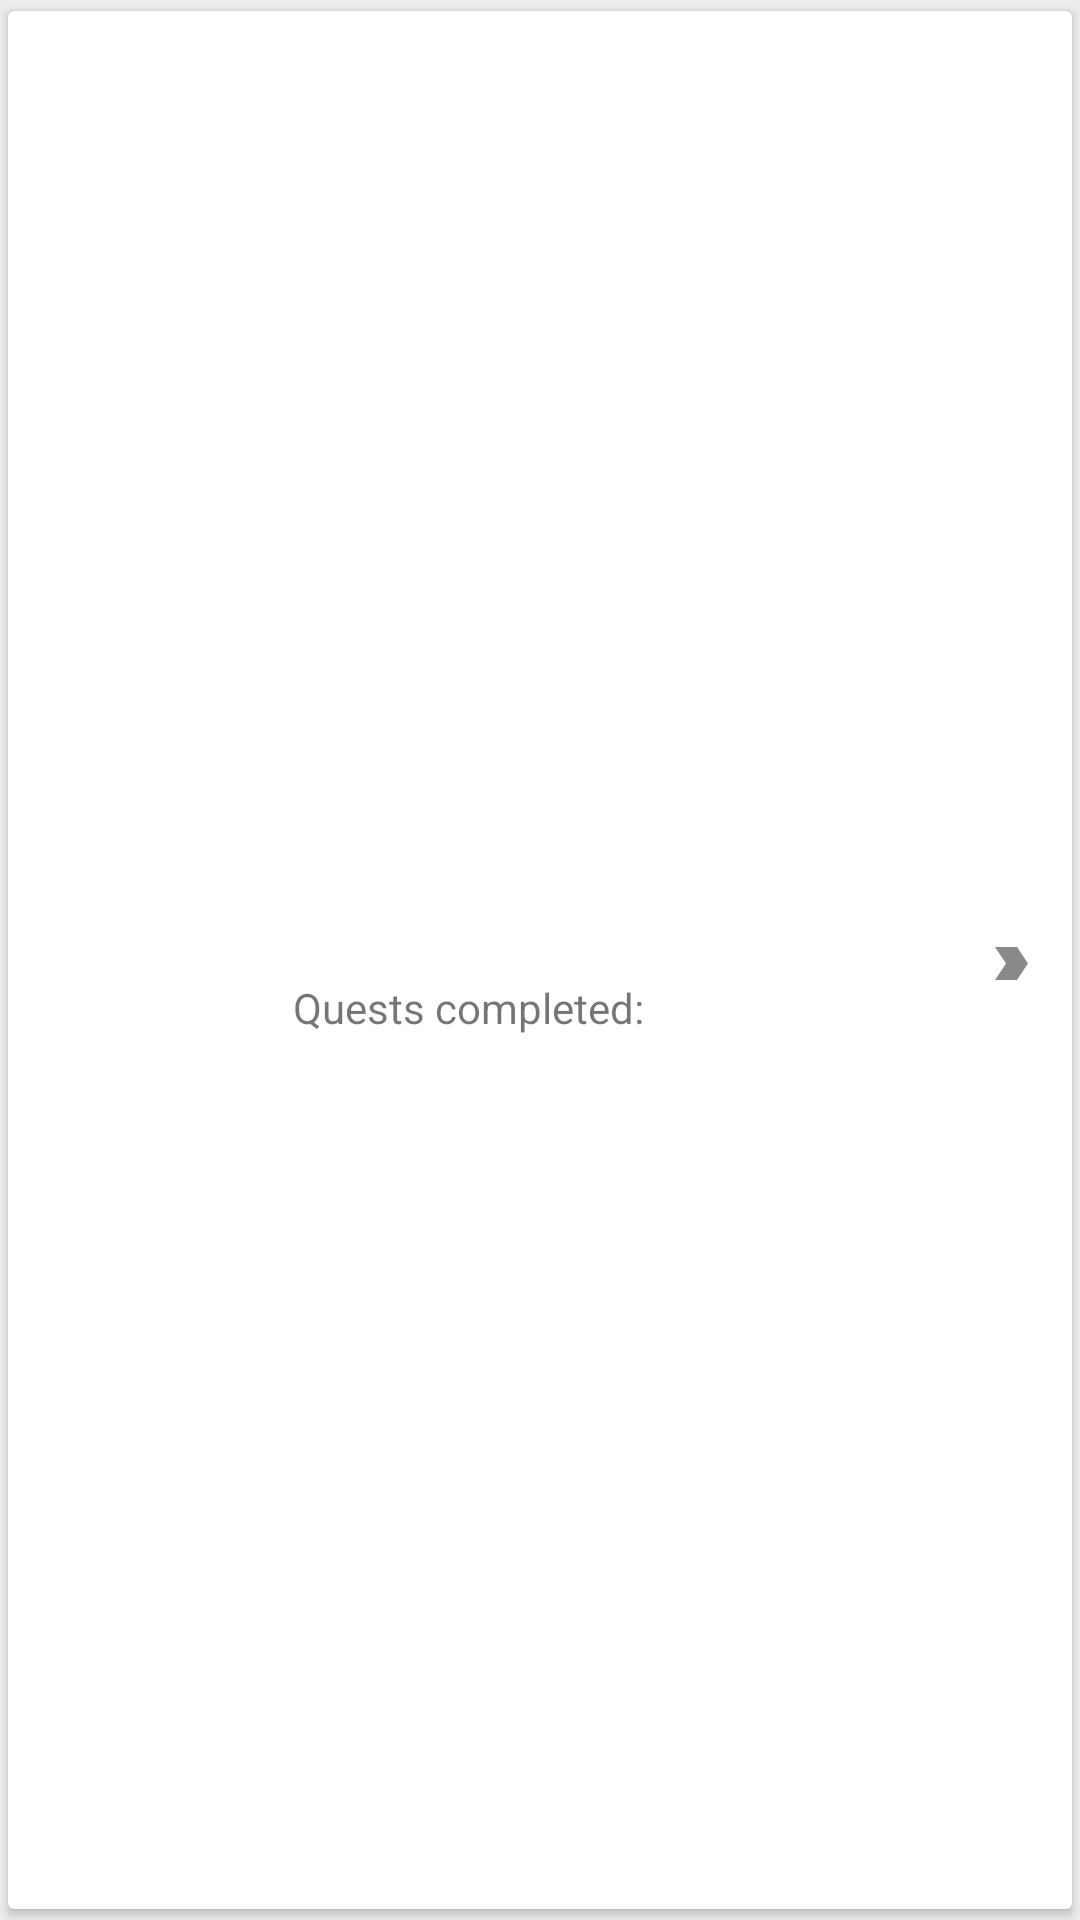

Icons on this 1080x1920 Android screen, each with its box as (x1, y1, x2, y2):
Image of a chevron arrow for: (995, 947, 1028, 980)
